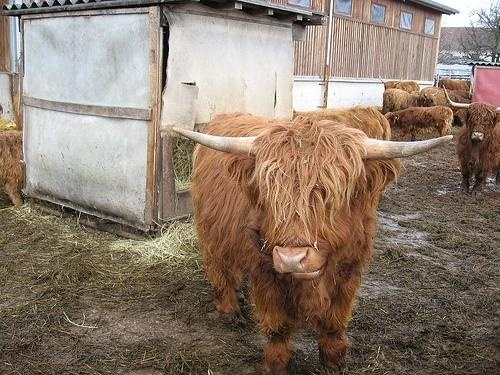cow: (191, 111, 458, 372), (438, 90, 500, 195), (291, 107, 390, 145), (389, 107, 454, 141), (384, 89, 442, 111), (376, 73, 421, 92), (437, 77, 472, 92)
